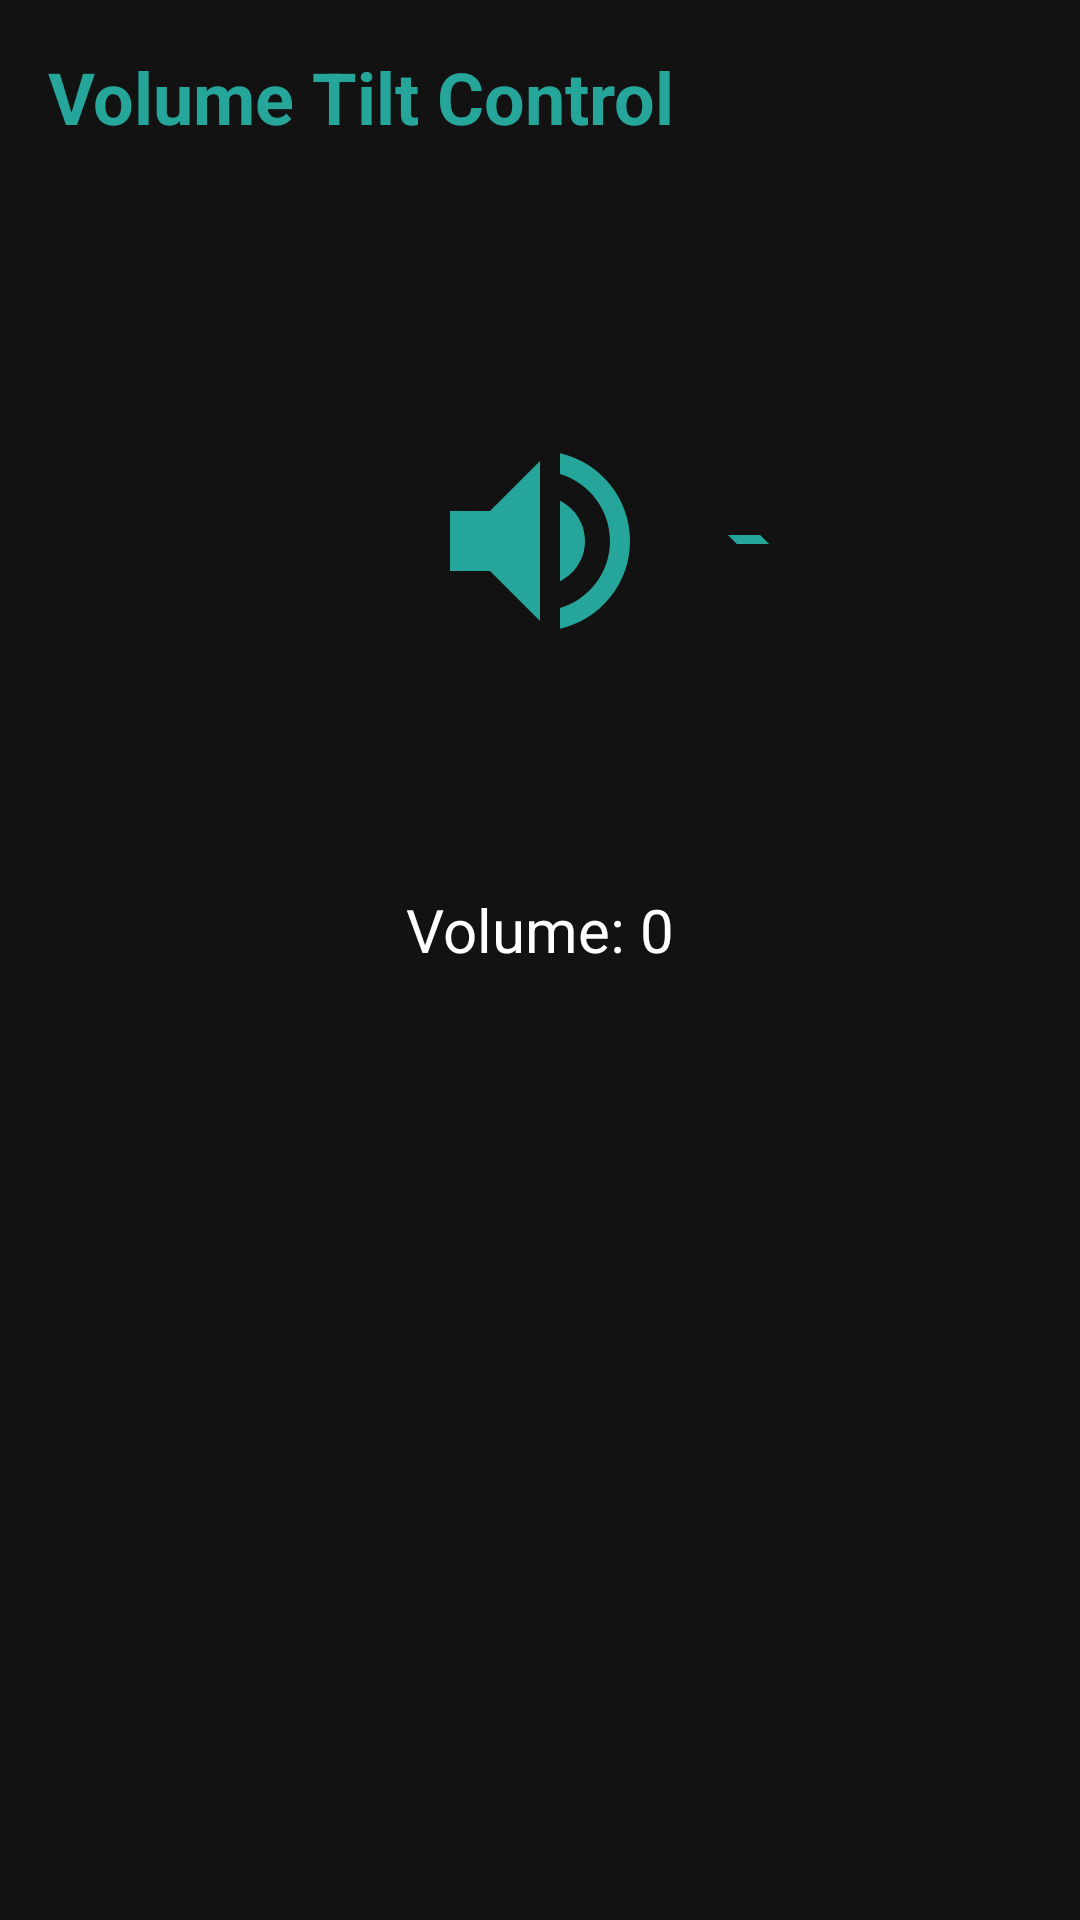

Icons on this 1080 × 1920 Android screen, each with its box as (x1, y1, x2, y2):
volume: (450, 453, 630, 629)
